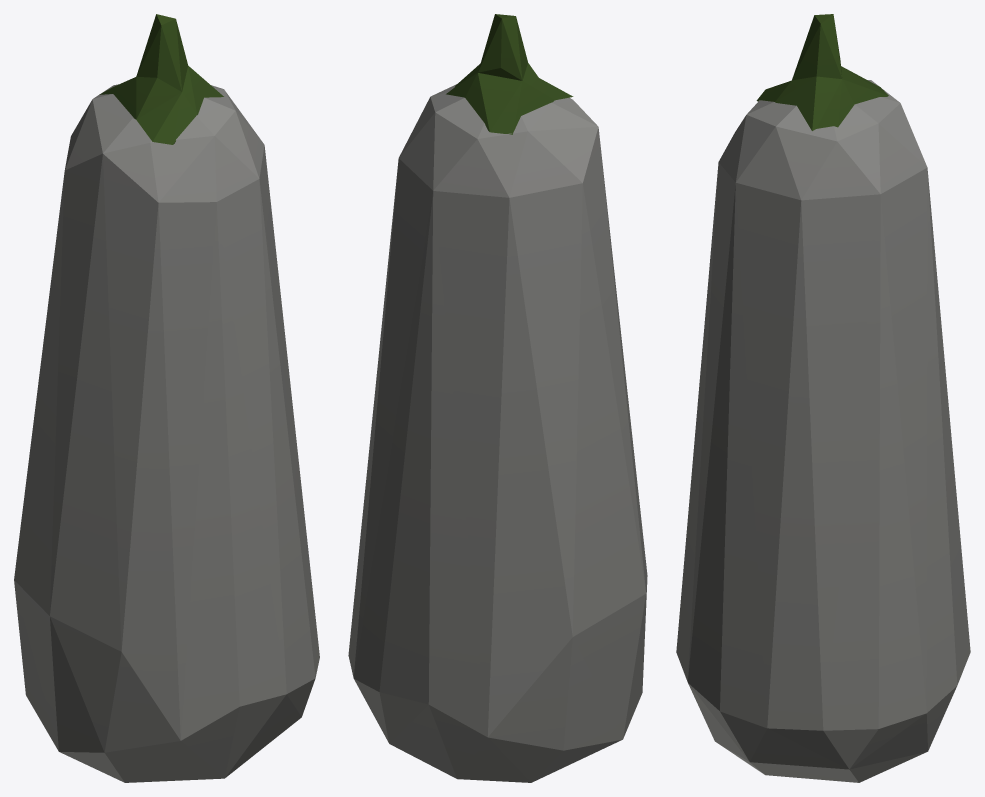
File: Eggplant_01.fbx
3 renders of one model, left to right at view 1: azimuth 30°, elevation 25°; view 2: azimuth 150°, elevation 25°; view 3: azimuth 270°, elevation 25°, orthographic.
Parts seen in each view (by area): view 1: Eggplant_01; view 2: Eggplant_01; view 3: Eggplant_01.
Part boxes in pixels (x1,y1,x2,y2): Eggplant_01: (14, 14, 319, 782); Eggplant_01: (348, 14, 647, 782); Eggplant_01: (676, 14, 970, 782).
Bounding box in the file's own units: 0.1218 × 0.323 × 0.1173.
